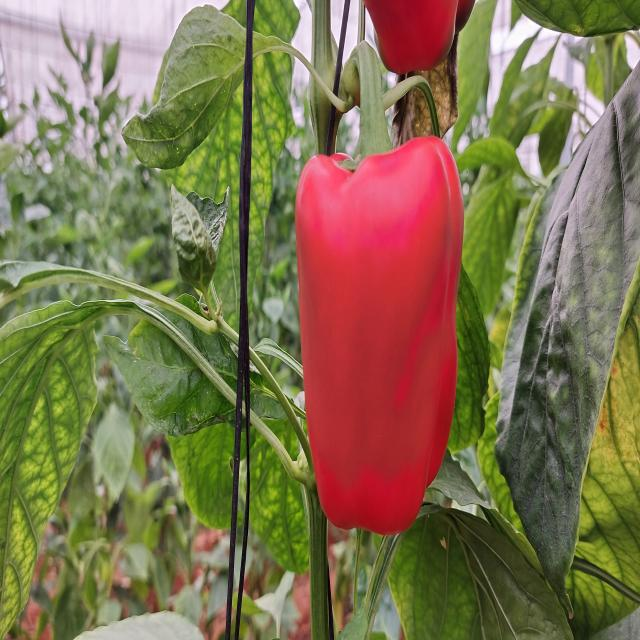Red-Ready-to-Harvest: (284, 110, 471, 556)
